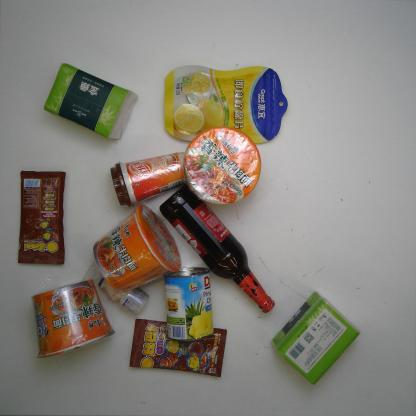Alcohol: (158, 184, 276, 316)
Candy: (127, 318, 229, 379), (17, 171, 66, 266)
Canned Food: (163, 266, 215, 344)
Dried Fruit: (163, 63, 289, 146)
Instant Drink: (110, 150, 187, 208)
Instant Noodles: (93, 203, 182, 294), (29, 278, 116, 360), (181, 125, 262, 207)
Milk: (98, 272, 149, 316)
Tissue: (272, 289, 360, 387), (42, 61, 139, 142)
